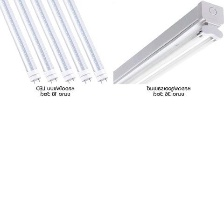light_bulb: (111, 28, 210, 94), (126, 36, 216, 99), (53, 0, 111, 86), (22, 0, 77, 85), (40, 0, 93, 88), (12, 0, 59, 84), (0, 0, 42, 84)
